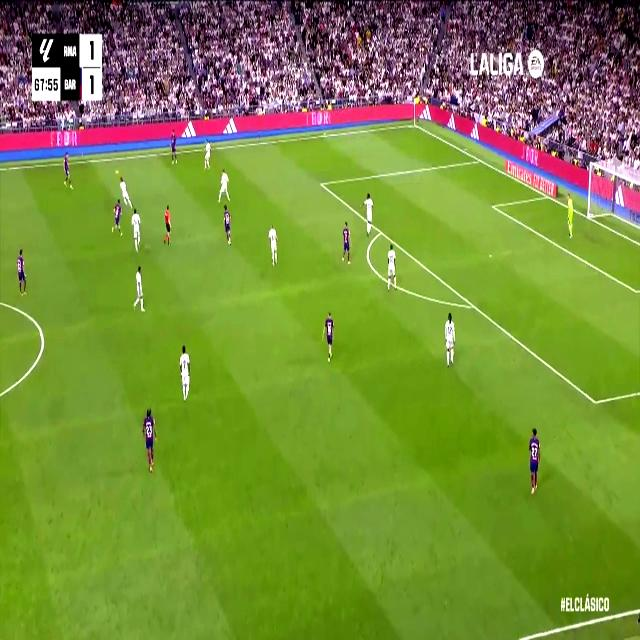bigarea_bottom_inner: (590, 388, 601, 414)
bigarea_top_inner: (317, 175, 325, 191)
bigarea_top_outter: (476, 152, 484, 166)
bottom_arc_area_intersection: (468, 296, 478, 315)
corner: (411, 119, 418, 129)
smallarea_top_inner: (491, 201, 495, 211)
top_arc_area_intersection: (378, 224, 384, 238)
